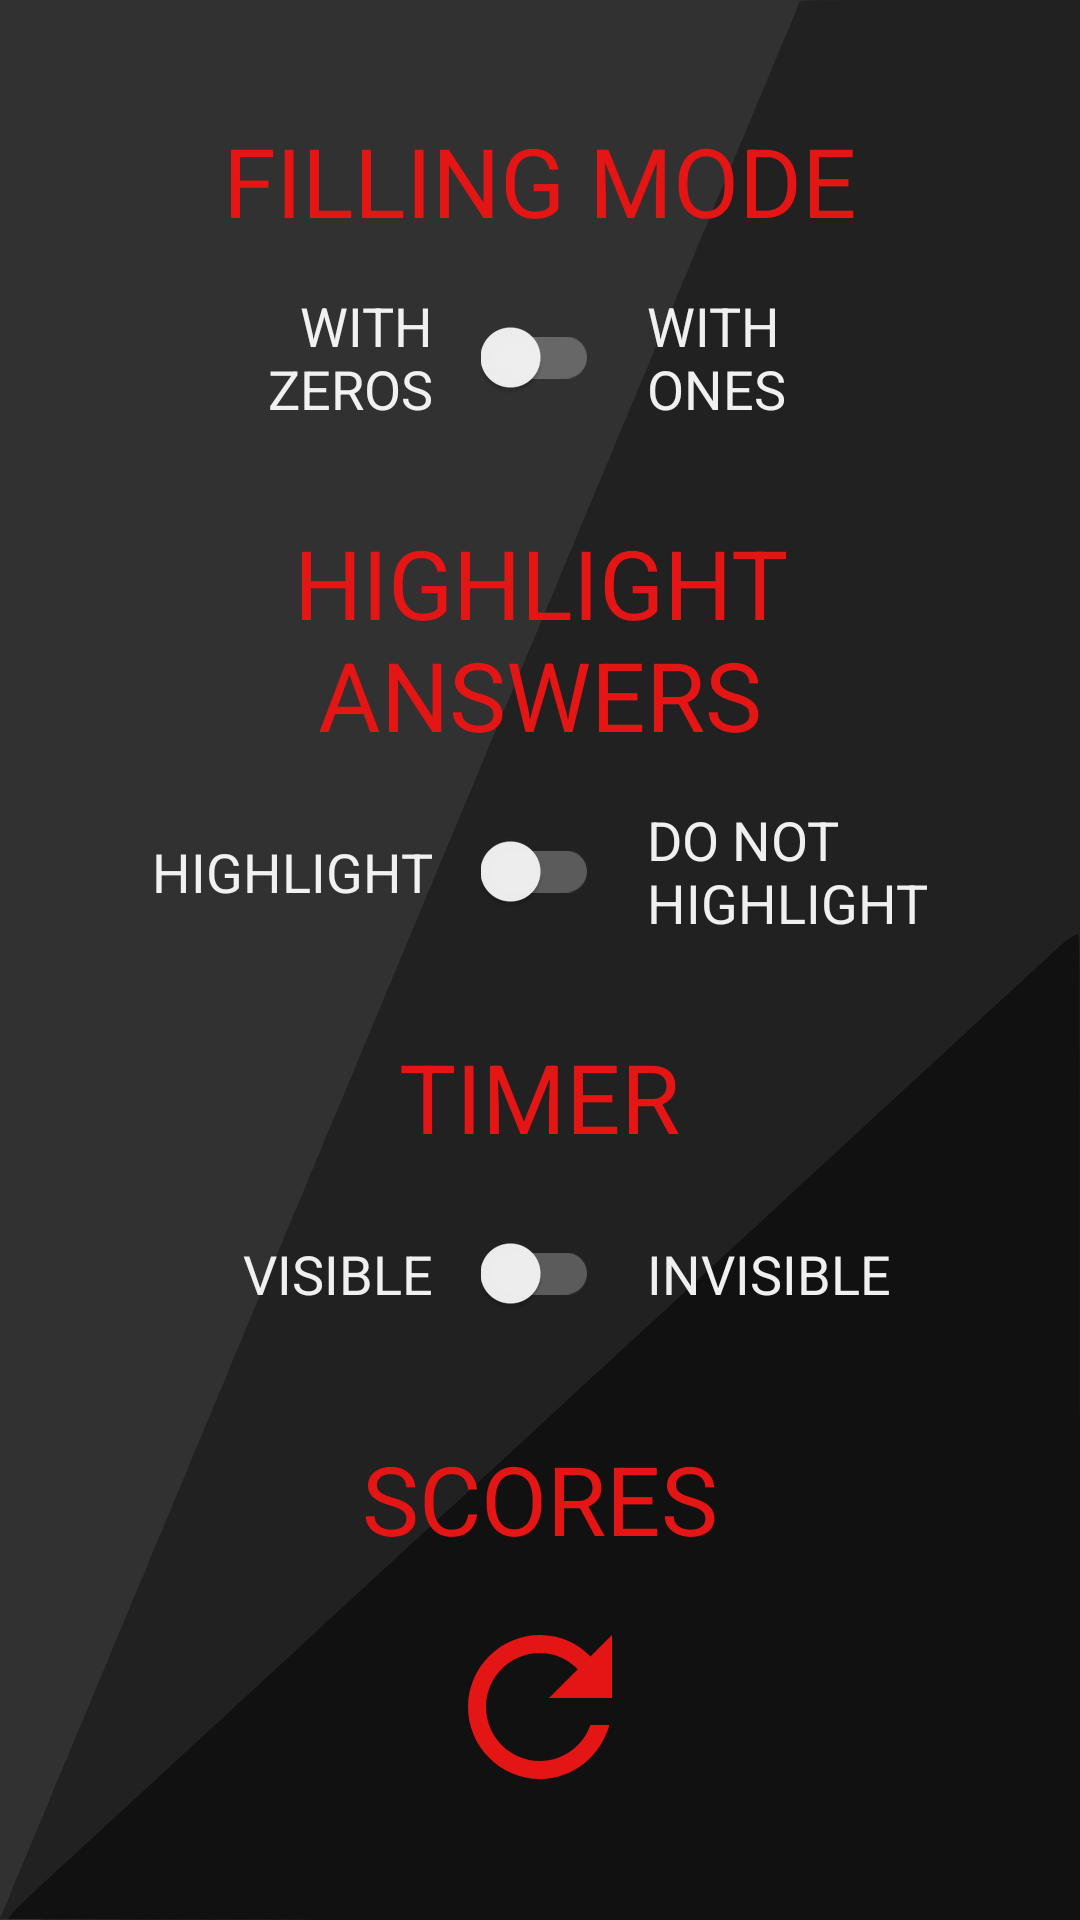

Screen size 1080 x 1920. Icon name, then its center in pixels as [x,y]:
refresh: [540,1707]
